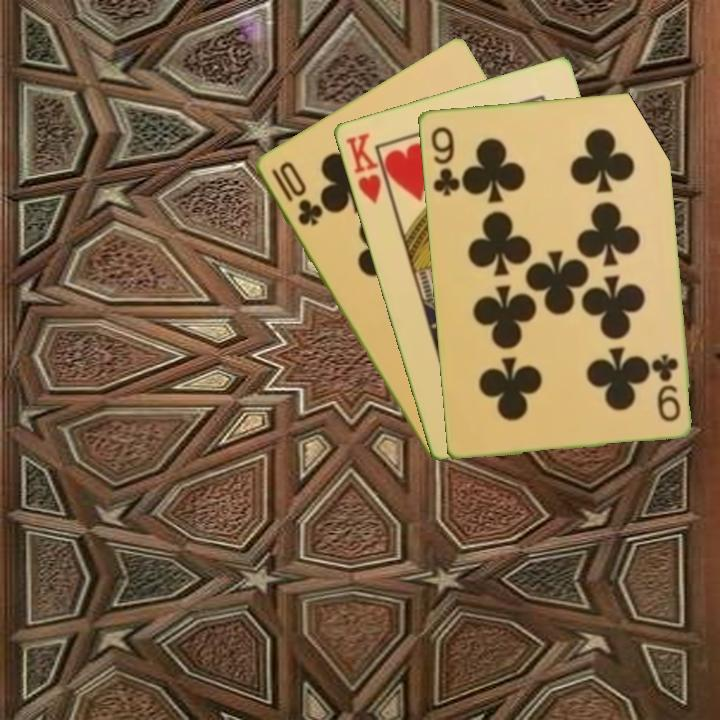10c: (267, 157, 325, 229)
9c: (427, 122, 462, 199), (649, 350, 683, 424)
Kh: (341, 129, 394, 207)
